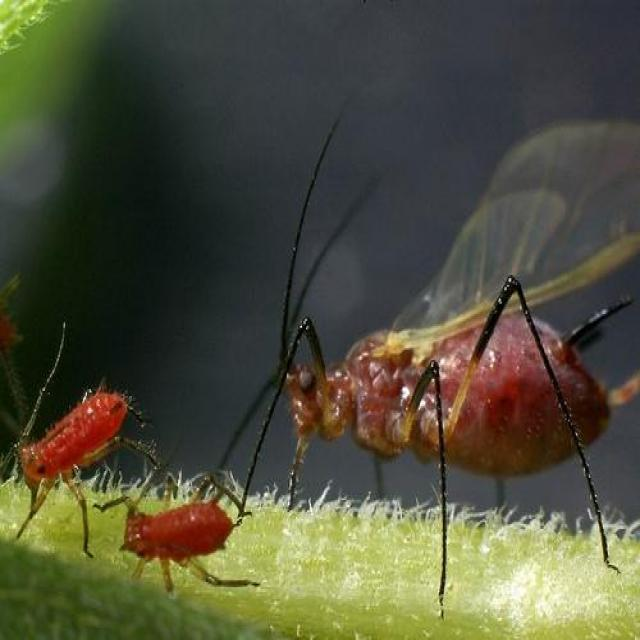aphid: (283, 269, 626, 493), (21, 383, 134, 512), (116, 484, 252, 590)
